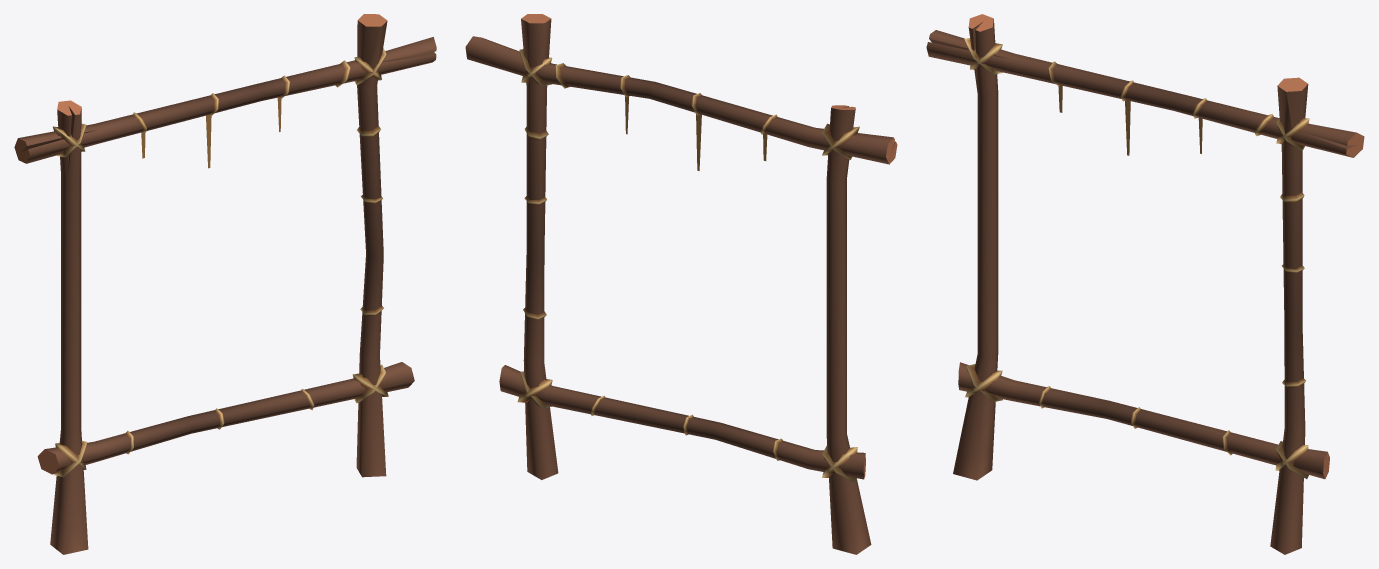
Rendered from Leather_Piece_1B.fbx.
3 renders of one model, left to right at view 1: azimuth 30°, elevation 25°; view 2: azimuth 150°, elevation 25°; view 3: azimuth 330°, elevation 25°, orthographic. The views are drawn at different scales.
Visible parts, largest first — view 1: Leather_Piece_1B; view 2: Leather_Piece_1B; view 3: Leather_Piece_1B.
Part boxes in pixels (x1=…): Leather_Piece_1B: x1=14, y1=14, x2=436, y2=554; Leather_Piece_1B: x1=465, y1=14, x2=897, y2=554; Leather_Piece_1B: x1=926, y1=14, x2=1364, y2=554.
Bounding box in the file's own units: 307 × 318 × 26.5.
